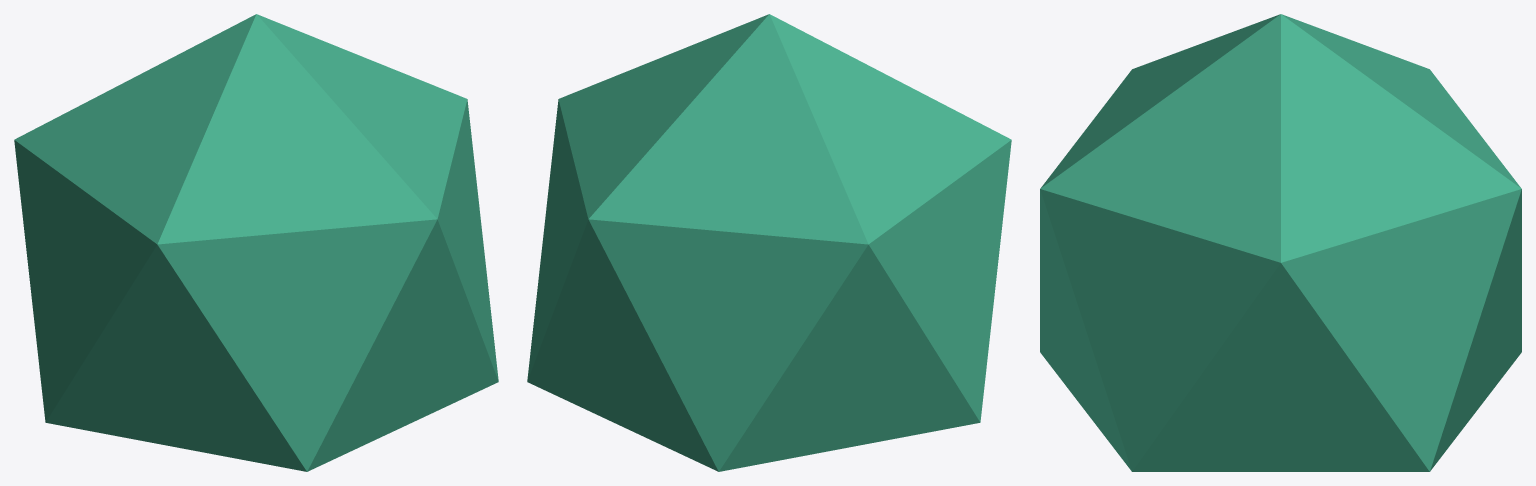
Rendered from J11.PiramidePentagonalGiroelongada.gltf.
3 views of the same model, side by side, from view 1: azimuth 30°, elevation 25°; view 2: azimuth 150°, elevation 25°; view 3: azimuth 270°, elevation 25° (orthographic). The views are drawn at different scales.
Visible parts, largest first — view 1: J11.PiramidePentagonalGiroelongada; view 2: J11.PiramidePentagonalGiroelongada; view 3: J11.PiramidePentagonalGiroelongada.
Boxes of the visible parts, box(x1,y1,x2,y2) form: J11.PiramidePentagonalGiroelongada: box(14, 14, 498, 471); J11.PiramidePentagonalGiroelongada: box(527, 14, 1011, 471); J11.PiramidePentagonalGiroelongada: box(1040, 14, 1521, 471).
Size of the model in its own units: 17.89 by 14.47 by 17.01.
